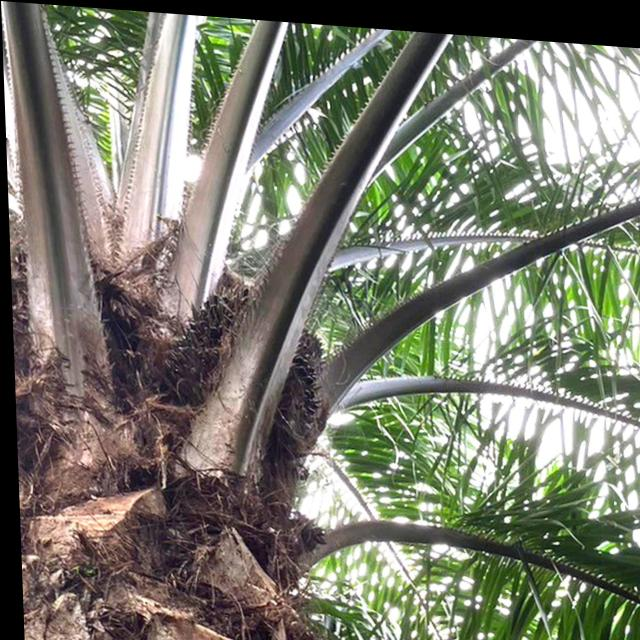unripe: (169, 281, 244, 382), (276, 325, 321, 435)
